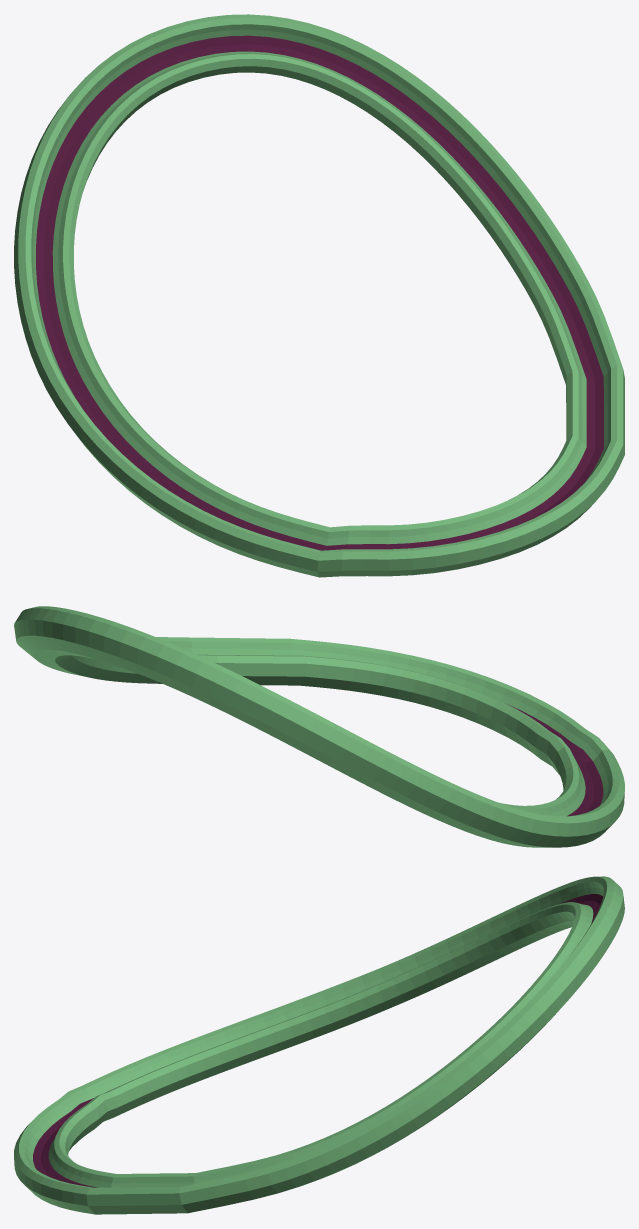
Rendered from level3basicfixed.fbx.
3 renders of one model, top to bottom at view 1: azimuth 30°, elevation 25°; view 2: azimuth 150°, elevation 25°; view 3: azimuth 270°, elevation 25°, orthographic. The views are drawn at different scales.
Visible parts, largest first — view 1: level3basicfixed, level3degradefixed; view 2: level3basicfixed, level3degradefixed; view 3: level3basicfixed, level3degradefixed.
Boxes of the visible parts, x1=… form: level3basicfixed: x1=14, y1=14, x2=622, y2=577; level3degradefixed: x1=317, y1=366, x2=624, y2=577; level3basicfixed: x1=14, y1=606, x2=624, y2=847; level3degradefixed: x1=188, y1=637, x2=611, y2=775; level3basicfixed: x1=81, y1=876, x2=624, y2=1213; level3degradefixed: x1=14, y1=1086, x2=195, y2=1214.
Size of the model in its own units: 829 by 500 by 972.
